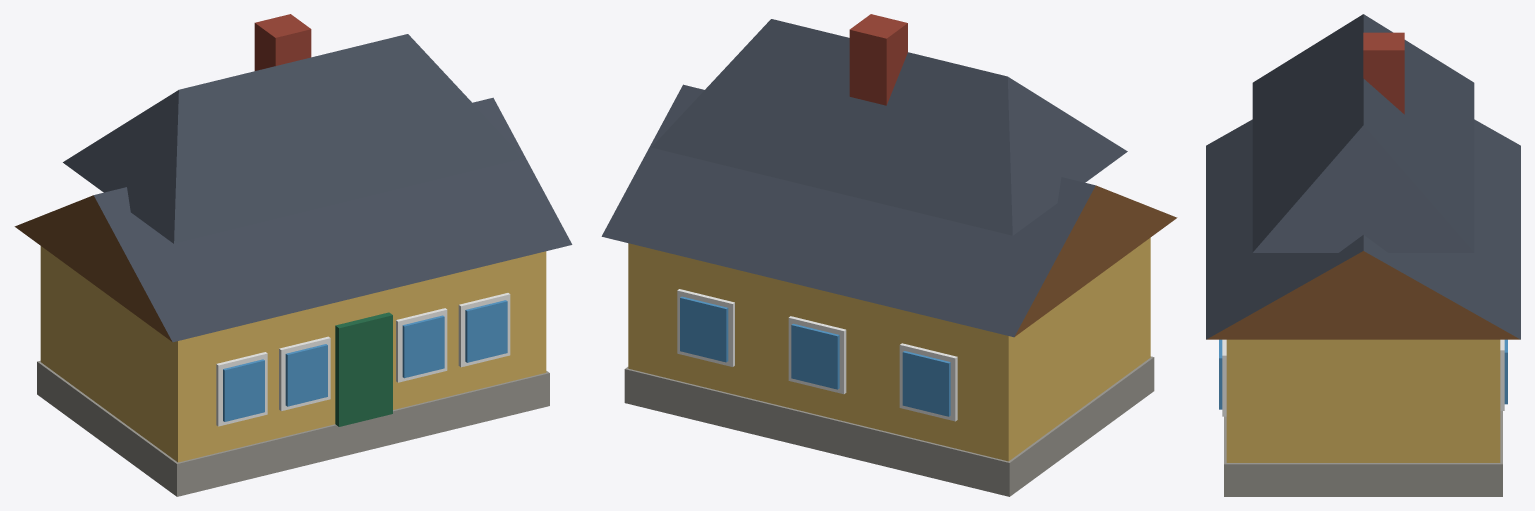
The model's file is 77_samogitian_wood_3.obj.
3 views of the same model, side by side, from view 1: azimuth 30°, elevation 25°; view 2: azimuth 150°, elevation 25°; view 3: azimuth 270°, elevation 25° (orthographic). The views are drawn at different scales.
Parts seen in each view (by area): view 1: 77_samogitian_wood_3; view 2: 77_samogitian_wood_3; view 3: 77_samogitian_wood_3.
Boxes of the visible parts, bbox=[...] form: 77_samogitian_wood_3: bbox=[14, 14, 572, 496]; 77_samogitian_wood_3: bbox=[601, 14, 1177, 496]; 77_samogitian_wood_3: bbox=[1206, 14, 1520, 496].
Bounding box in the file's own units: 1.78 × 1.56 × 1.22.
